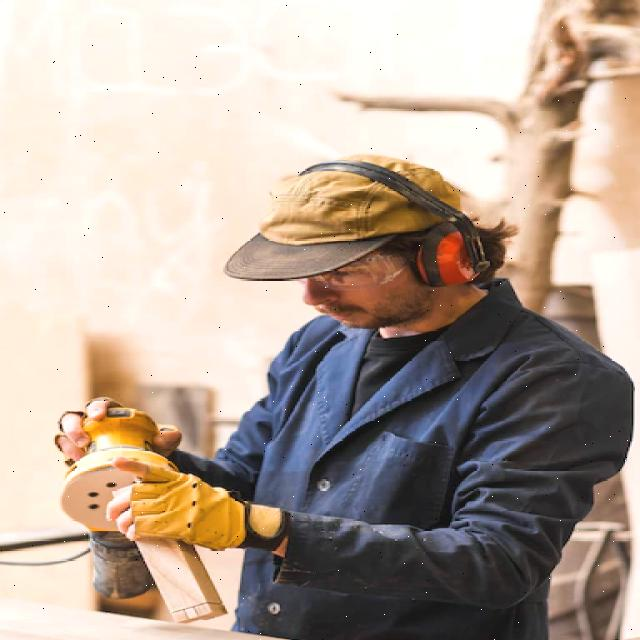Earmuffs: (304, 162, 490, 287)
Gloves: (107, 458, 287, 550)
Mask: (300, 295, 401, 332)
No Hardhat: (225, 171, 441, 279)
Overall Suit: (170, 279, 633, 640)
